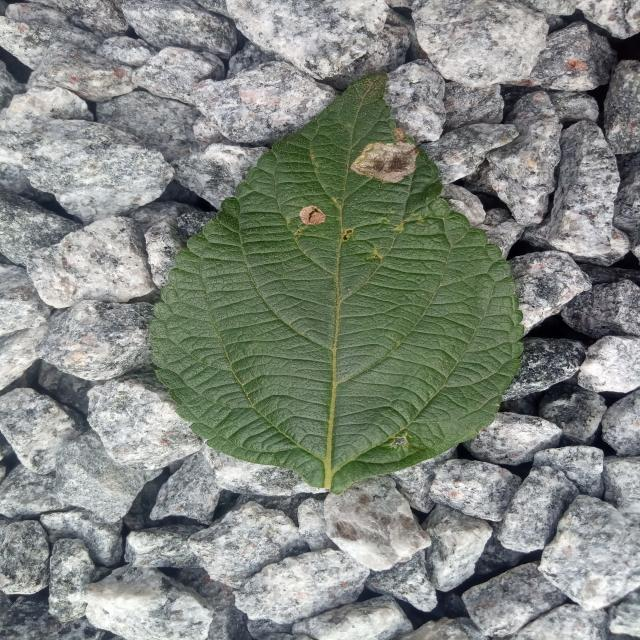Lantana: (150, 74, 523, 492)
